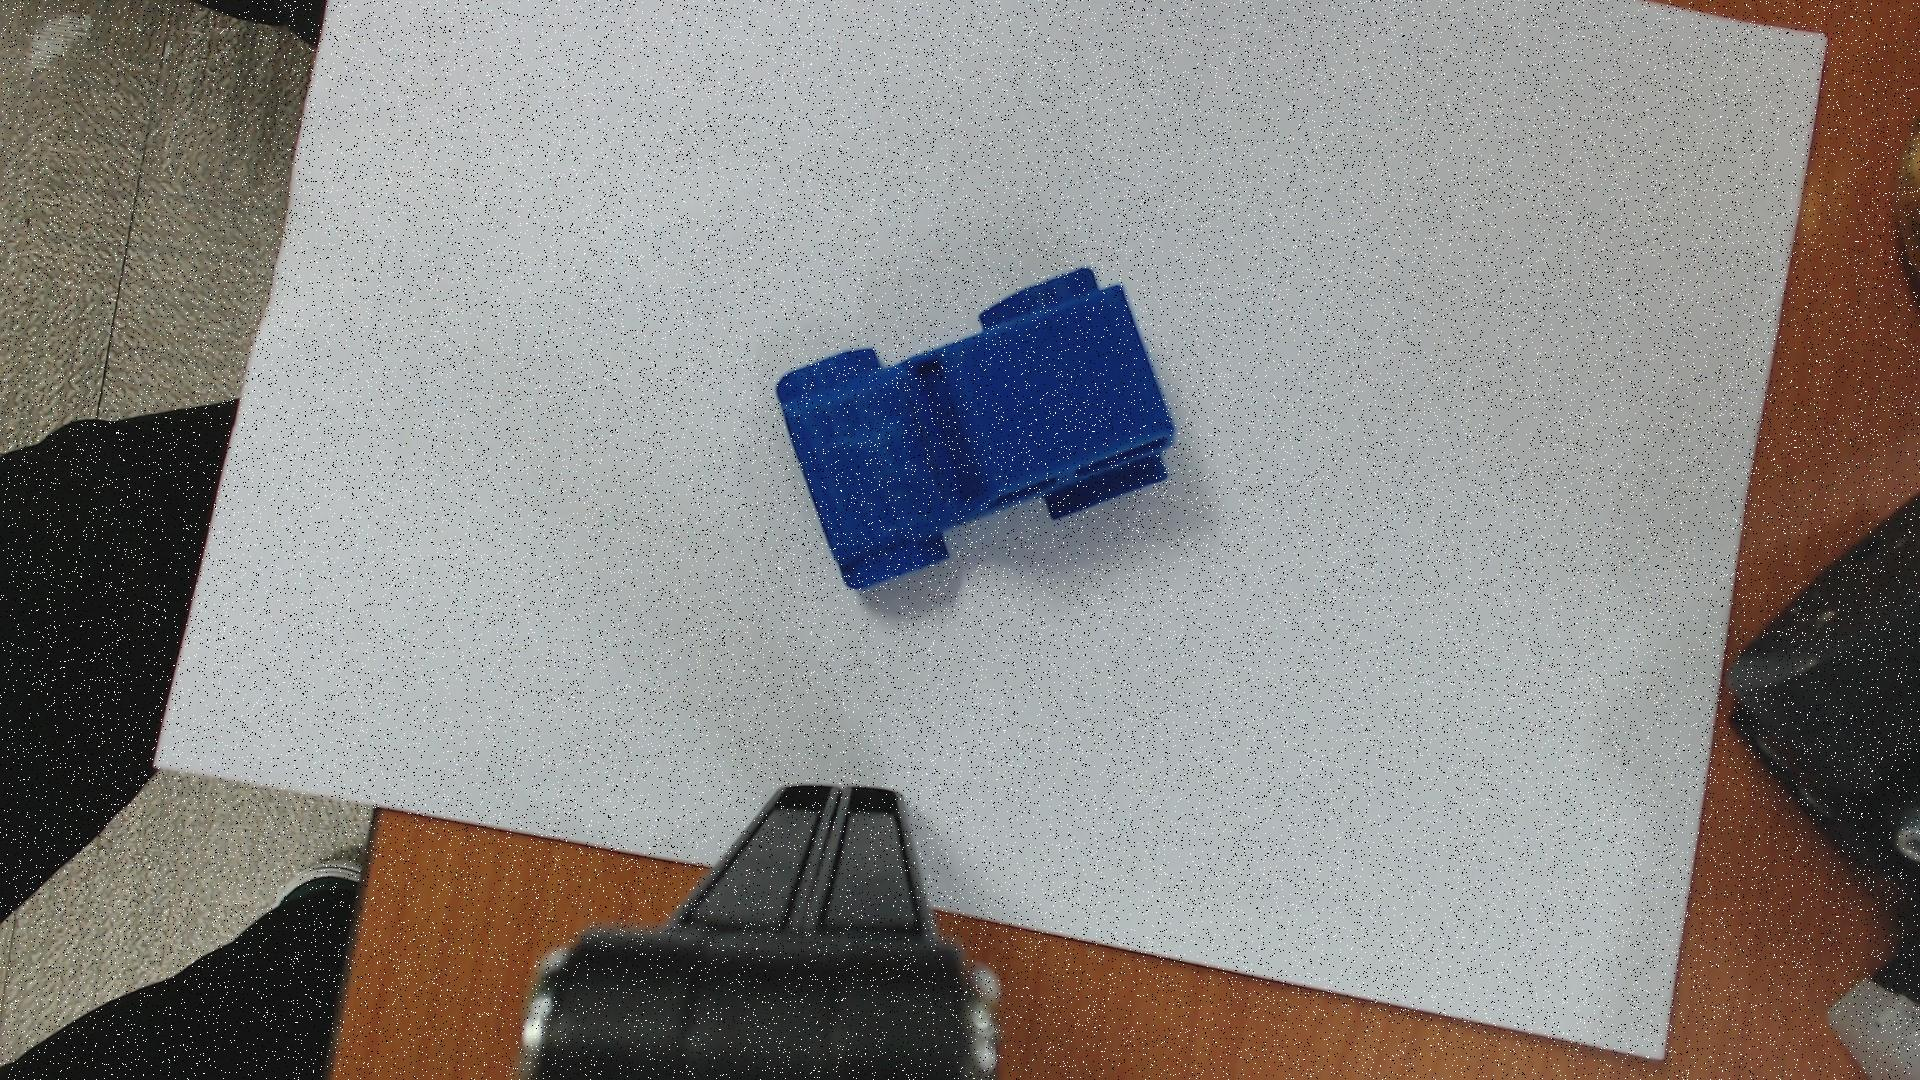Upper_ng: (777, 266, 1174, 589)
